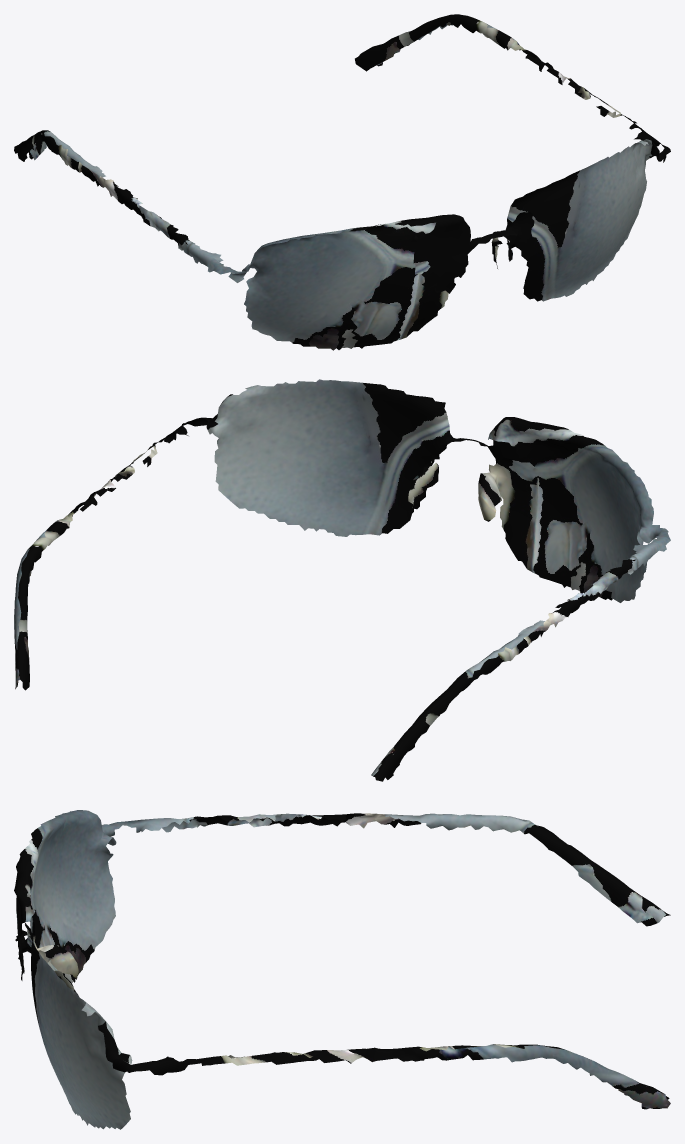
File: scan_align.obj
3 renders of one model, top to bottom at view 1: azimuth 30°, elevation 25°; view 2: azimuth 150°, elevation 25°; view 3: azimuth 270°, elevation 25°, orthographic. The views are drawn at different scales.
Size of the model in its own units: 0.1402 by 0.0399 by 0.1511.
